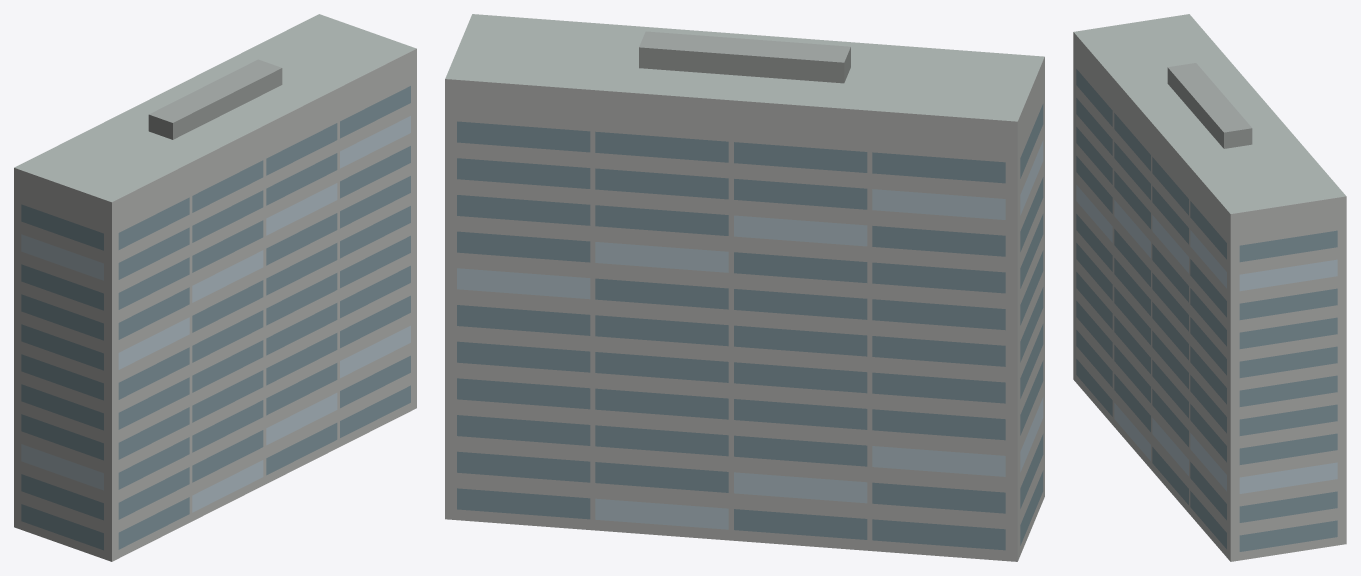
The model's file is fallback-songpa-helio-city-215.glb.
3 views of the same model, side by side, from view 1: azimuth 30°, elevation 25°; view 2: azimuth 150°, elevation 25°; view 3: azimuth 270°, elevation 25° (orthographic). The views are drawn at different scales.
Parts seen in each view (by area): view 1: fallback-songpa-helio-city-215; view 2: fallback-songpa-helio-city-215; view 3: fallback-songpa-helio-city-215.
Boxes of the visible parts, <box> form: fallback-songpa-helio-city-215: <box>14,14,416,561</box>; fallback-songpa-helio-city-215: <box>445,14,1044,561</box>; fallback-songpa-helio-city-215: <box>1073,14,1346,561</box>.
Bounding box in the file's own units: 41.26 × 35 × 23.79.
